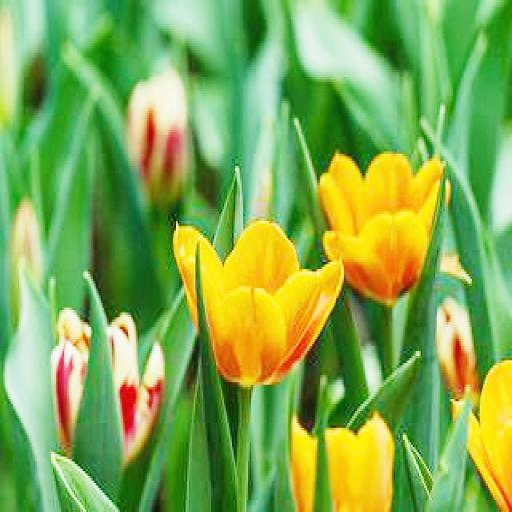tulip: (174, 224, 336, 387), (320, 149, 466, 296), (290, 416, 395, 512), (132, 62, 190, 202)
